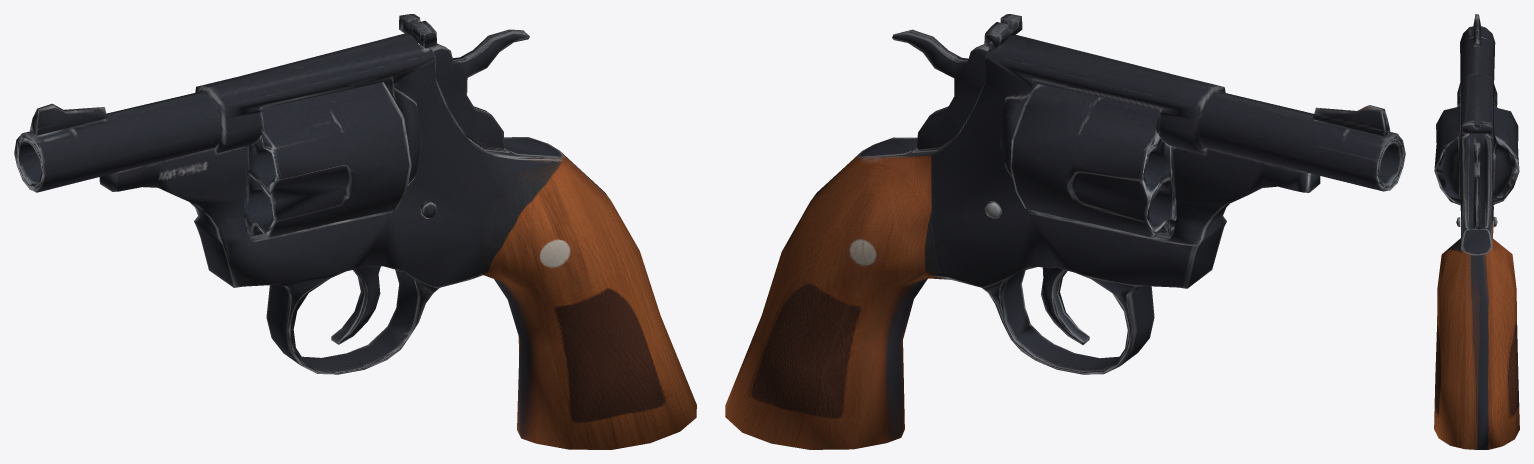
Rendered from revolver.glb.
3 views of the same model, side by side, from view 1: azimuth 30°, elevation 25°; view 2: azimuth 150°, elevation 25°; view 3: azimuth 270°, elevation 25° (orthographic). The views are drawn at different scales.
Bounding box in the file's own units: 1 × 0.6524 × 0.1985.
Materials: 1 (1 with a texture image).
